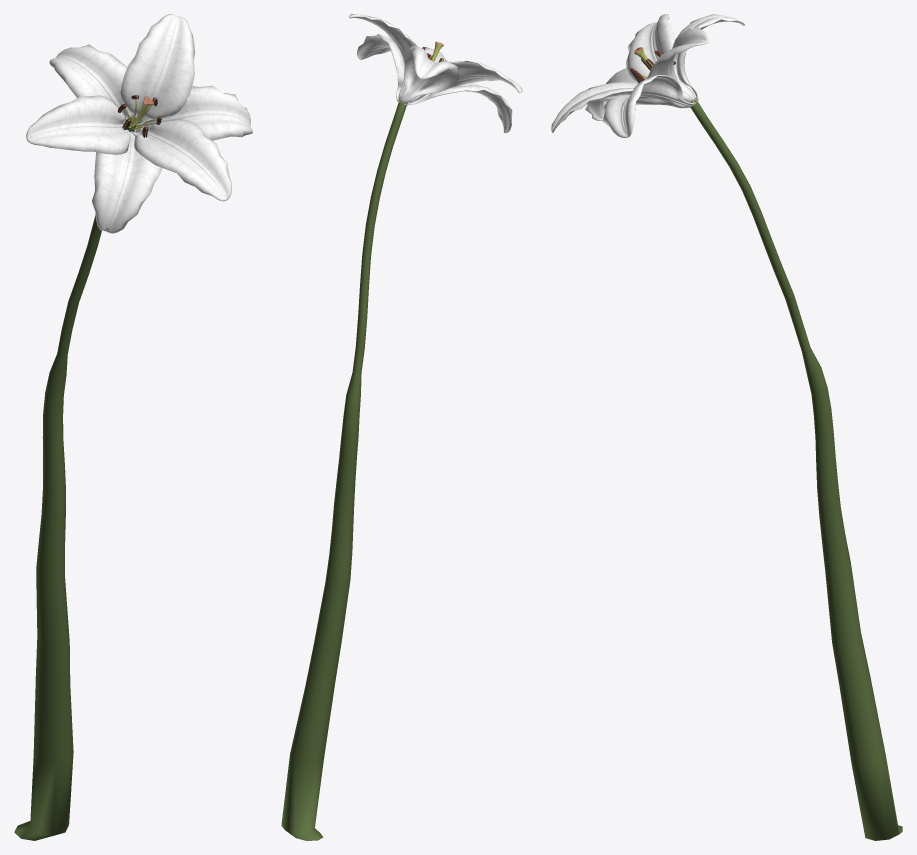
Rendered from liliwhite_6aBY77I.glb.
3 views of the same model, side by side, from view 1: azimuth 30°, elevation 25°; view 2: azimuth 150°, elevation 25°; view 3: azimuth 270°, elevation 25° (orthographic). The views are drawn at different scales.
Parts seen in each view (by area): view 1: flower_set_01_lilies.001, base, flower_set_01_lilies.002; view 2: base, flower_set_01_lilies.001; view 3: base, flower_set_01_lilies.001.
Part boxes in pixels (x1,y1,x2,y2): flower_set_01_lilies.001: [26, 14, 252, 233]; base: [14, 118, 136, 840]; flower_set_01_lilies.002: [117, 95, 161, 137]; base: [281, 102, 407, 840]; flower_set_01_lilies.001: [349, 14, 522, 132]; base: [690, 96, 902, 840]; flower_set_01_lilies.001: [551, 14, 744, 137].
Bounding box in the file's own units: 32.74 × 133 × 51.82.
Materials: 3 (2 with a texture image).
